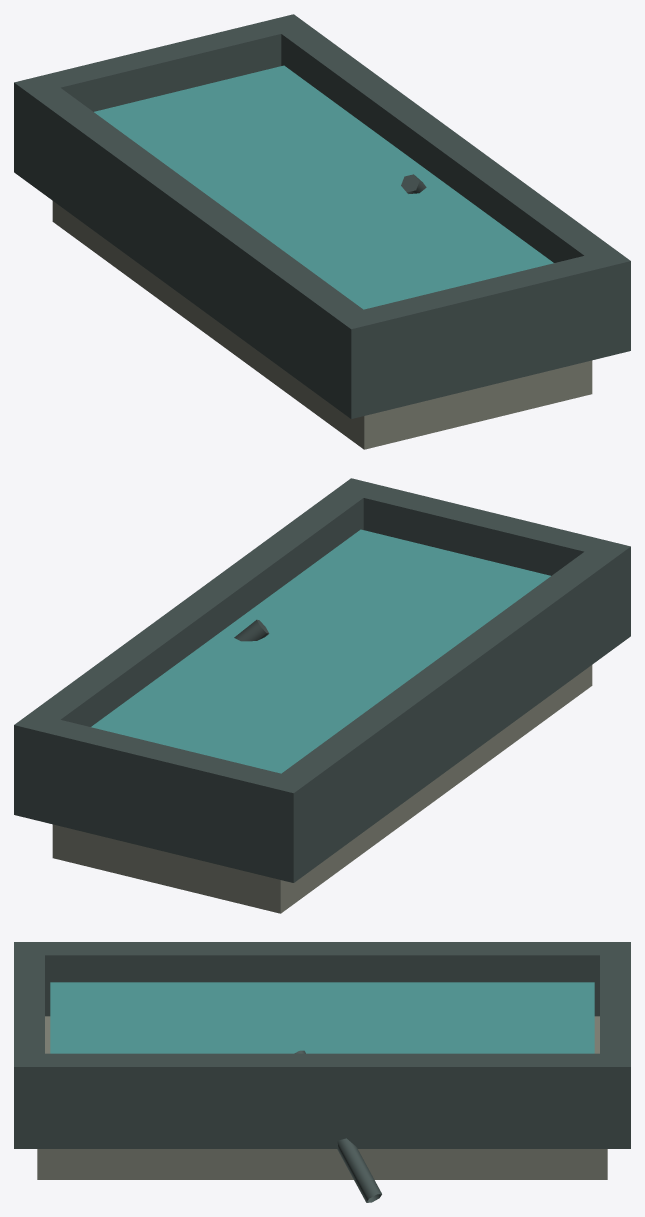
Rendered from trough.glb.
The picture shows the model from 3 angles, top to bottom: view 1: azimuth 30°, elevation 25°; view 2: azimuth 150°, elevation 25°; view 3: azimuth 270°, elevation 25°; orthographic projection. The views are drawn at different scales.
Visible parts, largest first — view 1: trough; view 2: trough; view 3: trough.
Boxes of the visible parts, <box> form: trough: <box>14,14,630,449</box>; trough: <box>14,478,630,913</box>; trough: <box>14,942,630,1202</box>.
Bounding box in the file's own units: 1.31 × 0.53 × 2.38.
